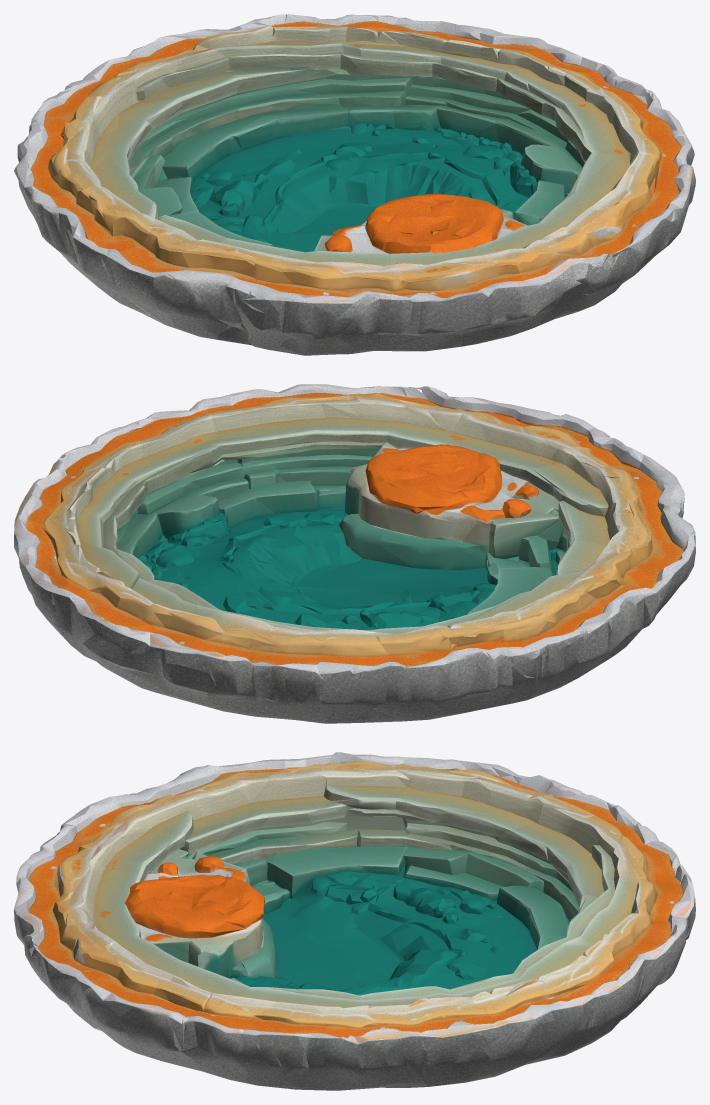
File: lm_spring.glb
3 views of the same model, one above another, from view 1: azimuth 30°, elevation 25°; view 2: azimuth 150°, elevation 25°; view 3: azimuth 270°, elevation 25° (orthographic).
Size of the model in its own units: 1.88 by 0.266 by 1.9.
Materials: 1 (1 with a texture image).
